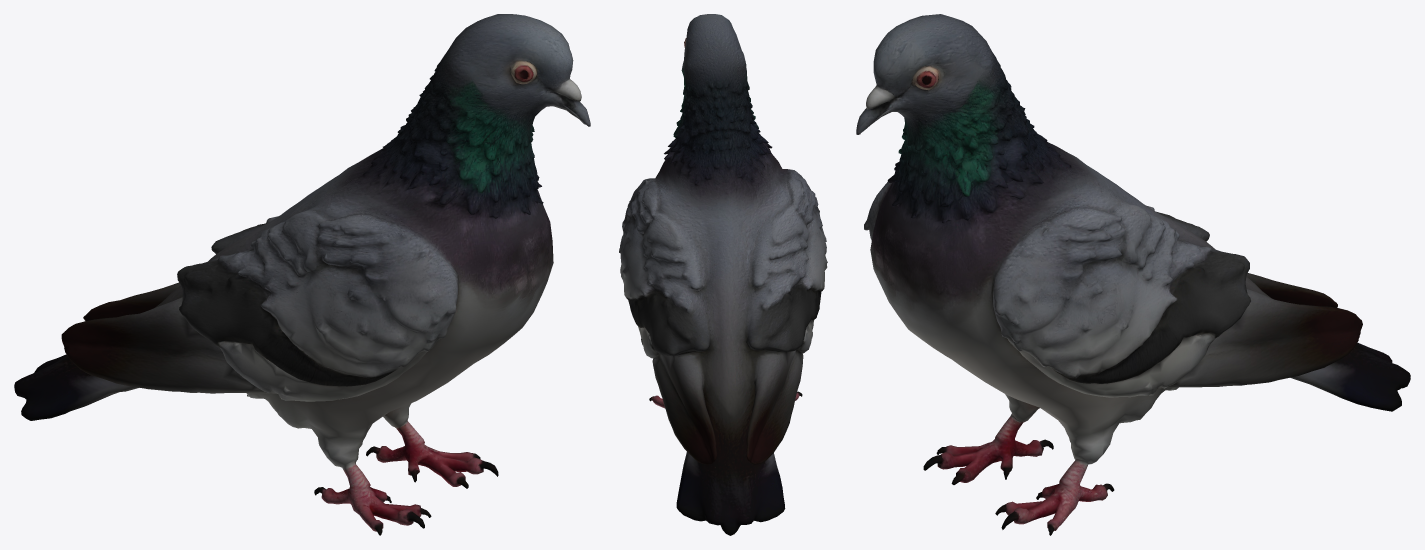
3 views of the same model, side by side, from view 1: azimuth 30°, elevation 25°; view 2: azimuth 150°, elevation 25°; view 3: azimuth 270°, elevation 25° (orthographic). The views are drawn at different scales.
Parts seen in each view (by area): view 1: tripo_node_d869d147-e730-46a0-a78a-0f9c302ac6c9; view 2: tripo_node_d869d147-e730-46a0-a78a-0f9c302ac6c9; view 3: tripo_node_d869d147-e730-46a0-a78a-0f9c302ac6c9.
Part boxes in pixels (bbox=[...]): tripo_node_d869d147-e730-46a0-a78a-0f9c302ac6c9: bbox=[14, 14, 590, 535]; tripo_node_d869d147-e730-46a0-a78a-0f9c302ac6c9: bbox=[619, 14, 827, 535]; tripo_node_d869d147-e730-46a0-a78a-0f9c302ac6c9: bbox=[856, 14, 1410, 535].
Bounding box in the file's own units: 0.7754 × 0.998 × 0.998.
1 material, 1 textured.
